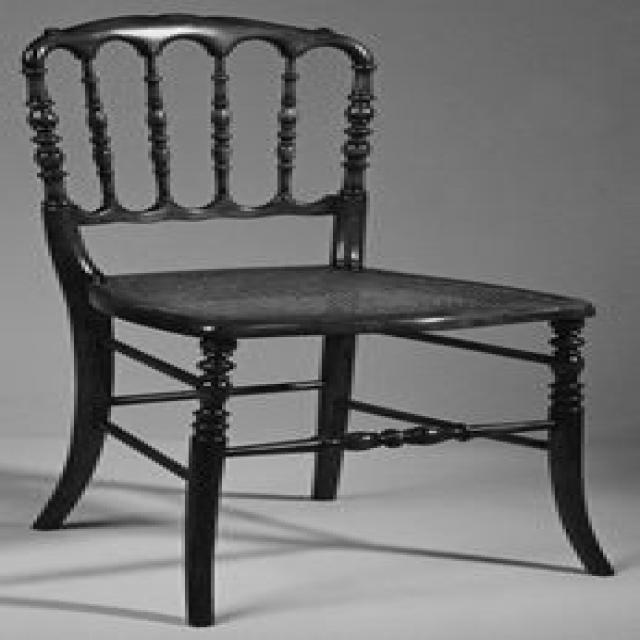chair: (22, 14, 623, 626)
